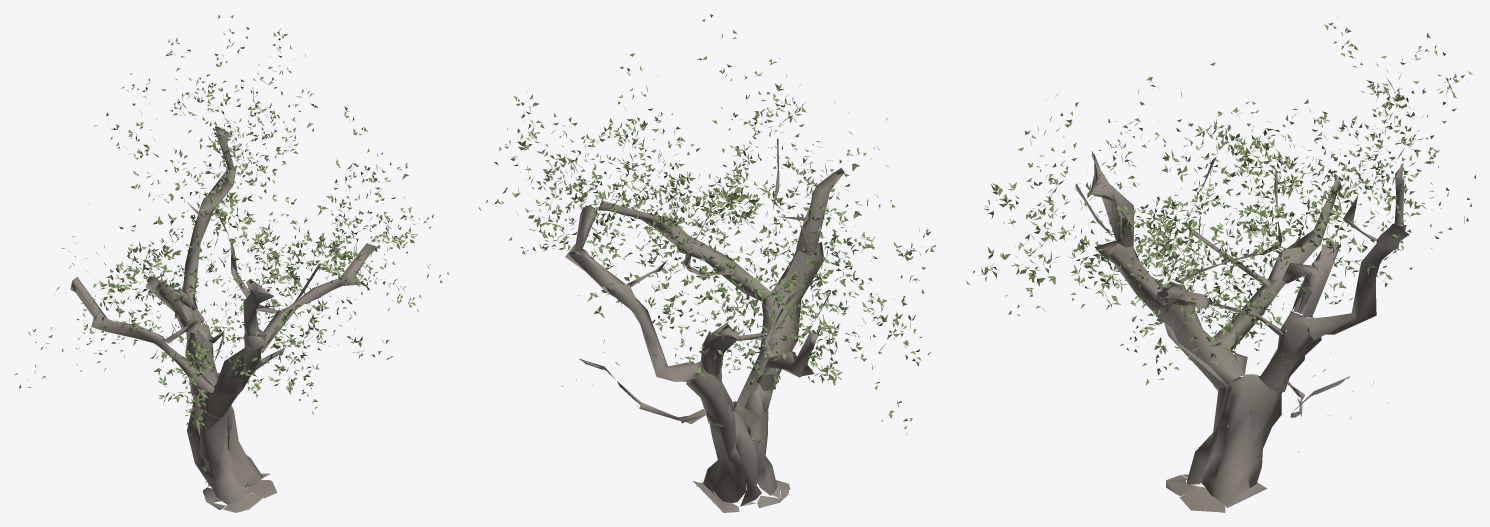
The model's file is coastal-tree-mid.glb.
The picture shows the model from 3 angles, left to right: view 1: azimuth 30°, elevation 25°; view 2: azimuth 150°, elevation 25°; view 3: azimuth 270°, elevation 25°; orthographic projection. The views are drawn at different scales.
Parts seen in each view (by area): view 1: island_tree_01_LOD0.001, island_tree_01_LOD0.002, island_tree_01_LOD0; view 2: island_tree_01_LOD0.001, island_tree_01_LOD0.002, island_tree_01_LOD0; view 3: island_tree_01_LOD0.001, island_tree_01_LOD0.002, island_tree_01_LOD0.
Boxes of the visible parts, left/top/right/bottom form: island_tree_01_LOD0.001: left=70, top=126, right=377, bottom=512; island_tree_01_LOD0.002: left=15, top=14, right=449, bottom=435; island_tree_01_LOD0: left=37, top=28, right=429, bottom=423; island_tree_01_LOD0.001: left=565, top=138, right=844, bottom=512; island_tree_01_LOD0.002: left=479, top=14, right=935, bottom=435; island_tree_01_LOD0: left=492, top=71, right=923, bottom=407; island_tree_01_LOD0.001: left=1074, top=155, right=1409, bottom=512; island_tree_01_LOD0.002: left=966, top=16, right=1475, bottom=385; island_tree_01_LOD0: left=979, top=32, right=1464, bottom=452.
Bounding box in the file's own units: 4.7 × 4.99 × 4.56.
